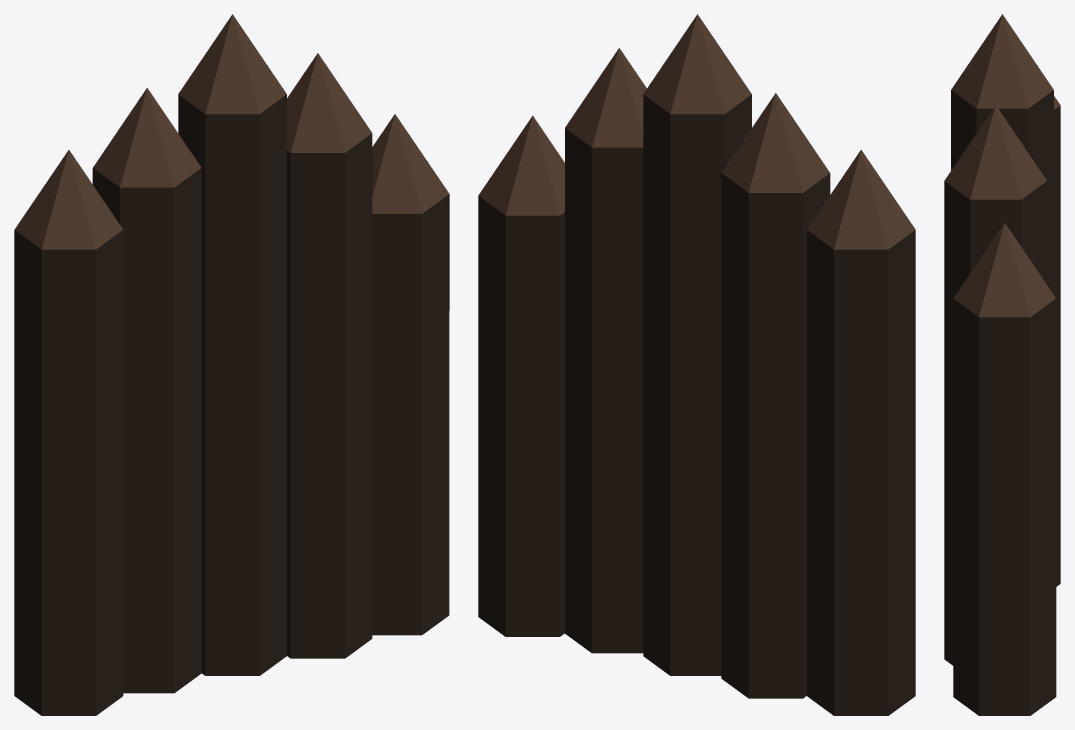
File: Wall_4_Dark_Brown.fbx
The picture shows the model from 3 angles, left to right: view 1: azimuth 30°, elevation 25°; view 2: azimuth 150°, elevation 25°; view 3: azimuth 270°, elevation 25°; orthographic projection. The views are drawn at different scales.
Visible parts, largest first — view 1: Wall_4_Dark_Brown; view 2: Wall_4_Dark_Brown; view 3: Wall_4_Dark_Brown.
Boxes of the visible parts, left/top/right/bottom form: Wall_4_Dark_Brown: left=14, top=14, right=449, bottom=715; Wall_4_Dark_Brown: left=478, top=14, right=915, bottom=715; Wall_4_Dark_Brown: left=944, top=14, right=1060, bottom=715.
Size of the model in its own units: 200 by 300 by 52.08.
